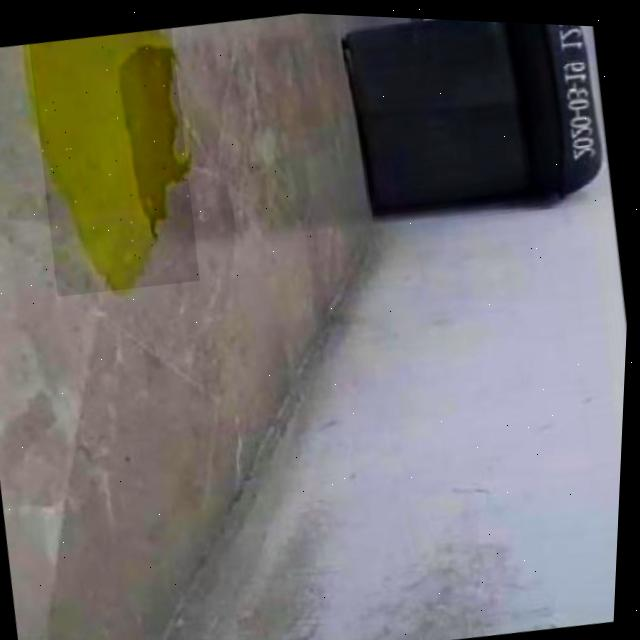spillage: (33, 28, 189, 287)
